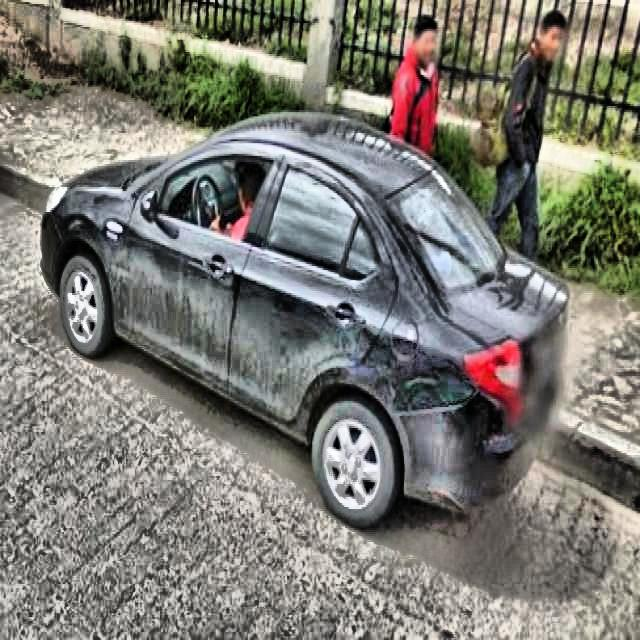carro: (42, 100, 570, 530)
